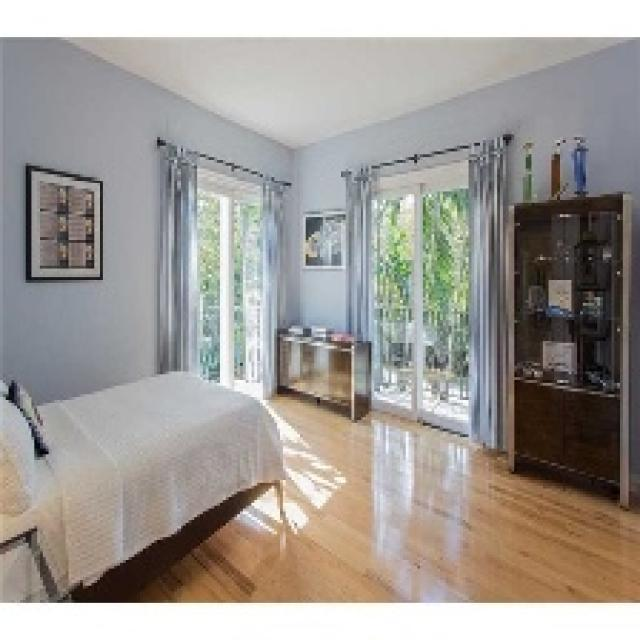Bed: (0, 366, 286, 600)
